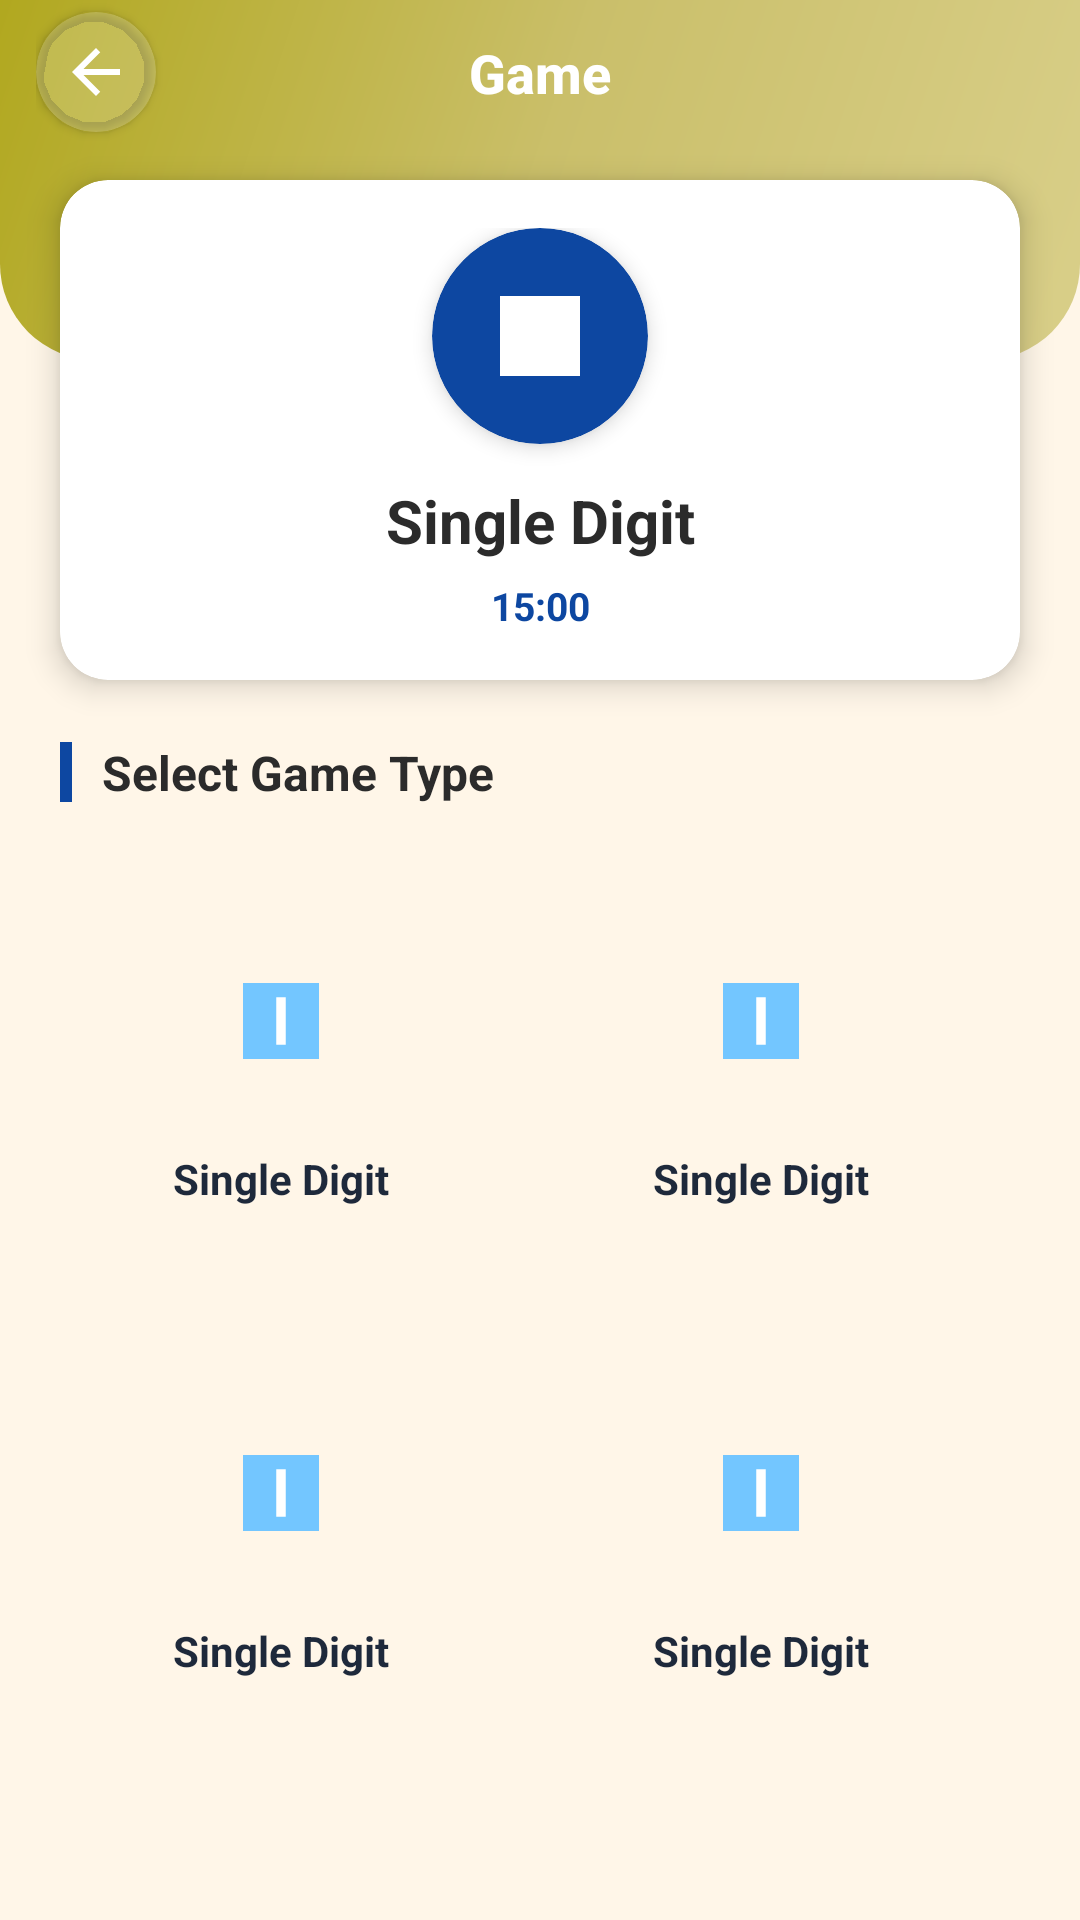

Icon bounding boxes for this 1080 × 1920 phone screenshot, format (x1, y1, x2, y2):
back: (36, 12, 156, 132)
